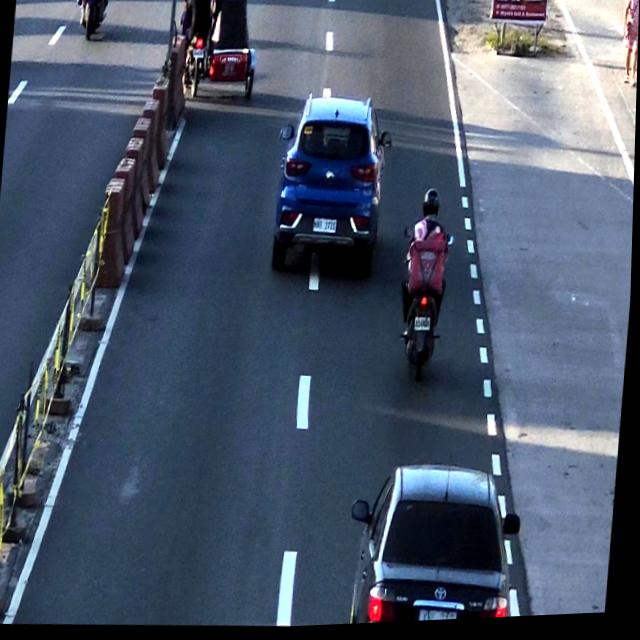Car: (351, 464, 526, 627), (270, 97, 387, 284)
License-Plate: (421, 608, 461, 625), (312, 216, 340, 239), (414, 318, 435, 337), (190, 48, 207, 60)
Motorcycle: (396, 186, 453, 386)
Tricycle: (180, 0, 256, 114)
